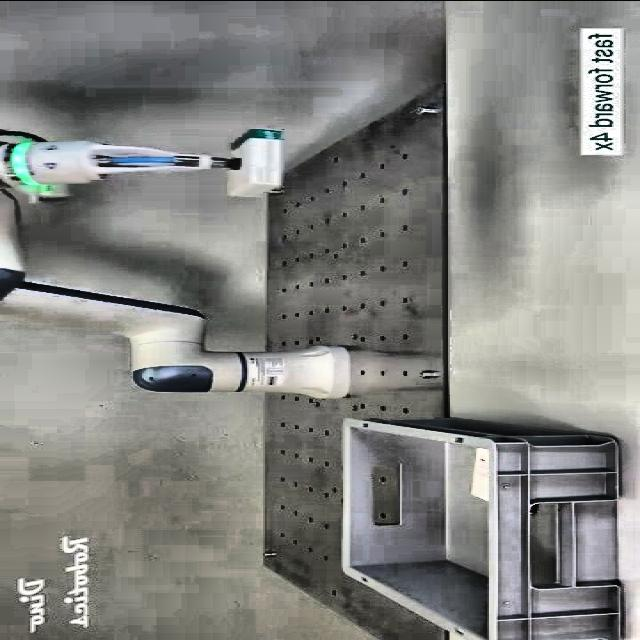robot: (0, 123, 362, 409)
